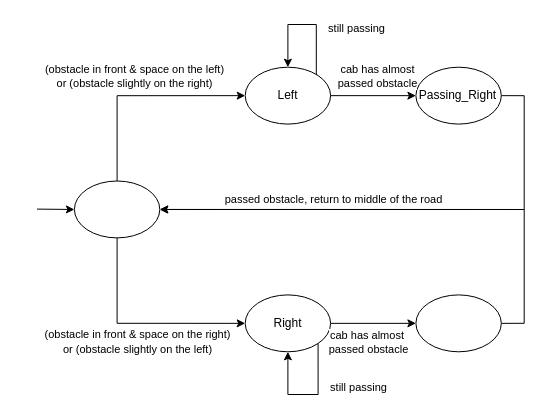
The diagram is 550 pixels wide and 420 high, and some of its shapes have lost their labels. The centre of each missing label's shape, as x and y in pixels:
Forward: [116,209]
Passing_Left: [458,323]
